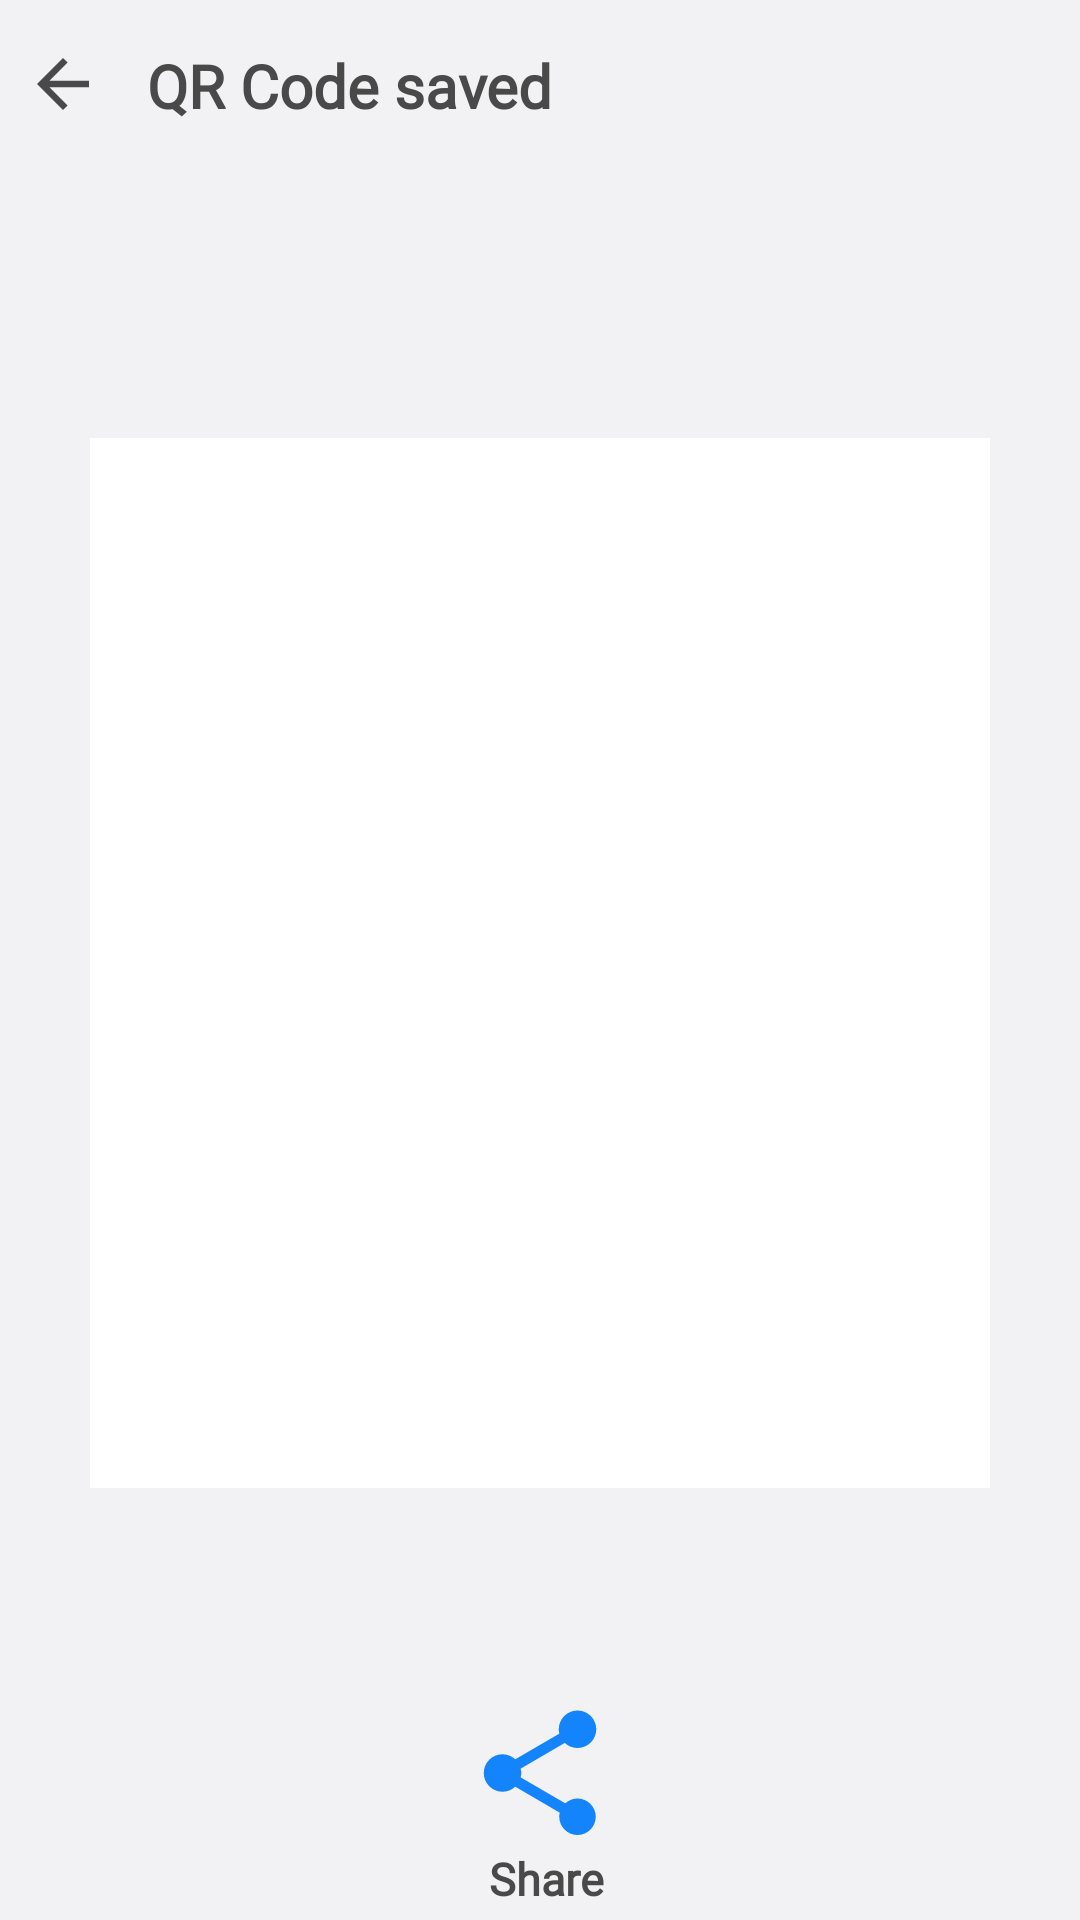

Locate icon controls on the screen. Image size 1080*1920, boxes as (x1, y1, x2, y2).
back: (37, 58, 89, 110)
